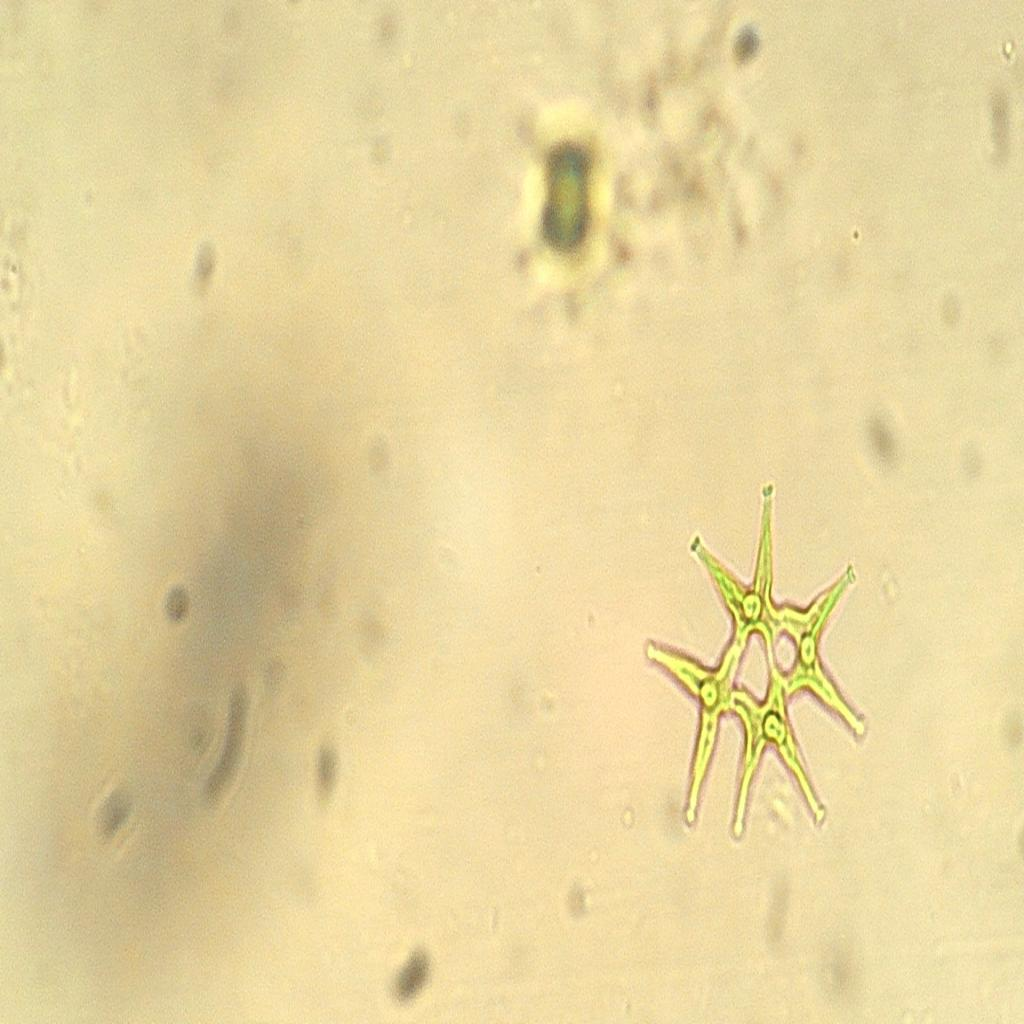Pediastrum_CF: (640, 478, 870, 853)
